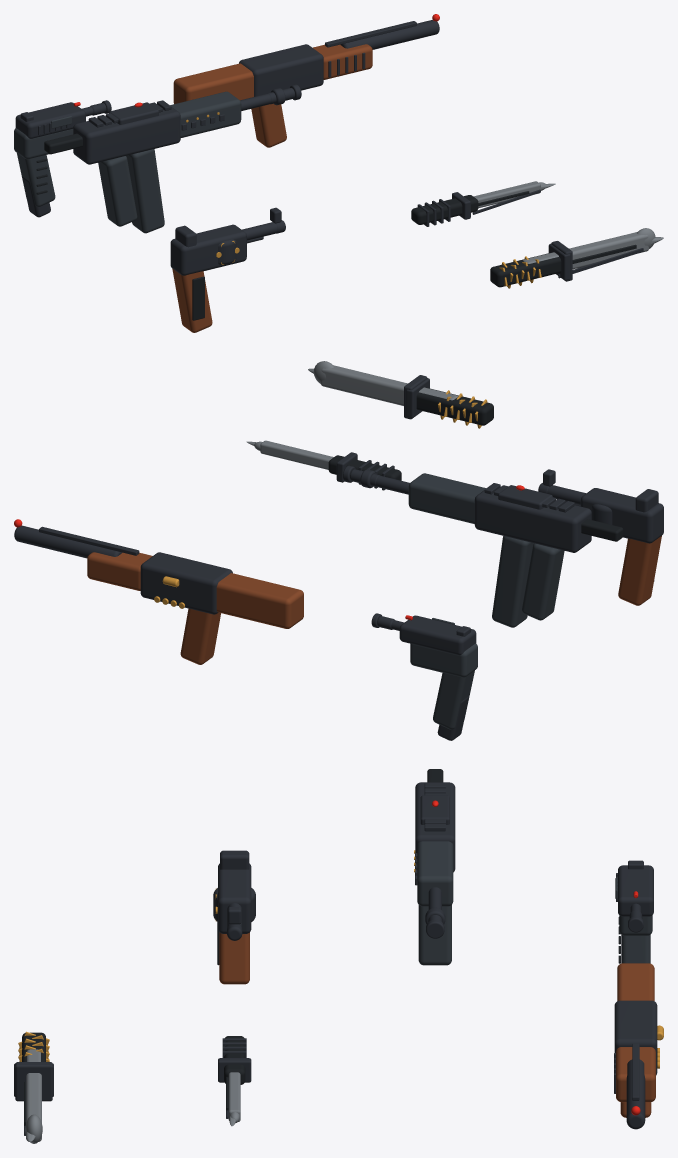
The model's file is weapon_pack_final.fbx.
The picture shows the model from 3 angles, top to bottom: view 1: azimuth 30°, elevation 25°; view 2: azimuth 150°, elevation 25°; view 3: azimuth 270°, elevation 25°; orthographic projection. The views are drawn at different scales.
Parts seen in each view (by area): view 1: ARP_Receiver, Shotgun_Receiver, Revolver_Frame, ARP_Mag, Shotgun_Stock, ARP_Handguard, ARP_Grip, Machete_Blade, Handgun_Slide, Shotgun_Pump, Revolver_Grip, Machete_Handle (+10 smaller); view 2: ARP_Receiver, Shotgun_Receiver, Shotgun_Stock, ARP_Mag, ARP_Handguard, Revolver_Frame, ARP_Grip, Machete_Blade, Revolver_Grip, Handgun_Slide, Shotgun_Pump, Shotgun_Grip (+9 smaller); view 3: ARP_Handguard, Shotgun_Receiver, Revolver_Frame, Handgun_Slide, Revolver_Grip, ARP_Mag, Shotgun_Stock, Shotgun_Pump, ARP_Receiver, Machete_Guard, Shotgun_Barrel, Machete_Blade (+5 smaller).
Boxes of the visible parts, box(x1,y1,x2,y2) form: ARP_Receiver: box(73, 107, 180, 164); Shotgun_Receiver: box(239, 44, 323, 96); Revolver_Frame: box(170, 224, 246, 275); ARP_Mag: box(126, 149, 164, 233); Shotgun_Stock: box(173, 63, 253, 103); ARP_Handguard: box(170, 91, 241, 137); ARP_Grip: box(98, 156, 137, 226); Machete_Blade: box(523, 232, 648, 269); Handgun_Slide: box(15, 102, 85, 138); Shotgun_Pump: box(313, 44, 372, 79); Revolver_Grip: box(172, 268, 212, 332); Machete_Handle: box(490, 252, 561, 287); ARP_Receiver: box(474, 490, 591, 552); Shotgun_Receiver: box(140, 552, 232, 614); Shotgun_Stock: box(216, 573, 303, 628); ARP_Mag: box(492, 536, 533, 627); ARP_Handguard: box(408, 473, 486, 523); Revolver_Frame: box(580, 488, 663, 543); ARP_Grip: box(522, 543, 564, 620); Machete_Blade: box(321, 365, 457, 405); Revolver_Grip: box(618, 536, 661, 605); Handgun_Slide: box(399, 615, 476, 655); Shotgun_Pump: box(87, 552, 152, 590); Shotgun_Grip: box(180, 608, 220, 664); ARP_Handguard: box(417, 841, 453, 906); Shotgun_Receiver: box(614, 1000, 657, 1075); Revolver_Frame: box(218, 863, 251, 933); Handgun_Slide: box(618, 865, 653, 916); Revolver_Grip: box(219, 932, 249, 984); ARP_Mag: box(418, 905, 451, 965); Shotgun_Stock: box(617, 963, 654, 1000); Shotgun_Pump: box(616, 1047, 655, 1102); ARP_Receiver: box(415, 782, 455, 872); Machete_Guard: box(15, 1062, 52, 1101); Shotgun_Barrel: box(626, 1059, 645, 1129); Machete_Blade: box(26, 1049, 41, 1141).
Size of the model in its own units: 10.05 by 3.37 by 9.72.
